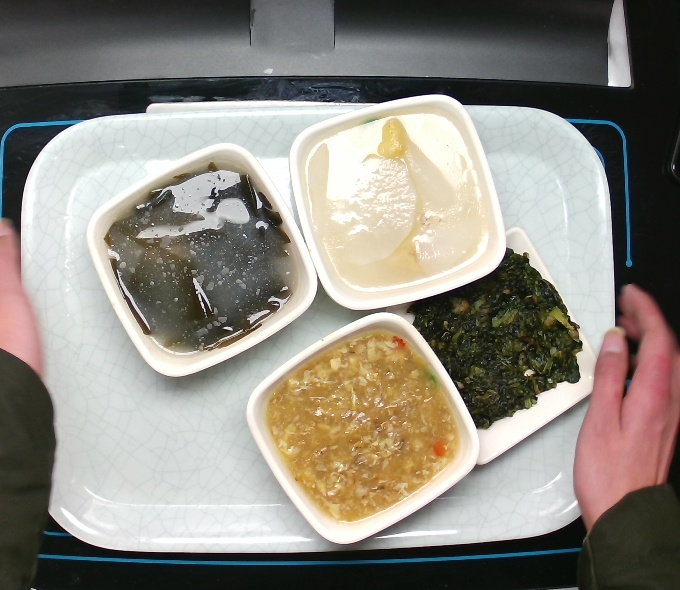wcq-HaiDaiPaiGuTang: (108, 166, 292, 354)
wcq-LuoBoYouPaoTang: (305, 110, 490, 292)
wcq-QinCaiBing: (408, 246, 586, 434)
wcq-SuanLaGeng: (267, 328, 461, 522)
